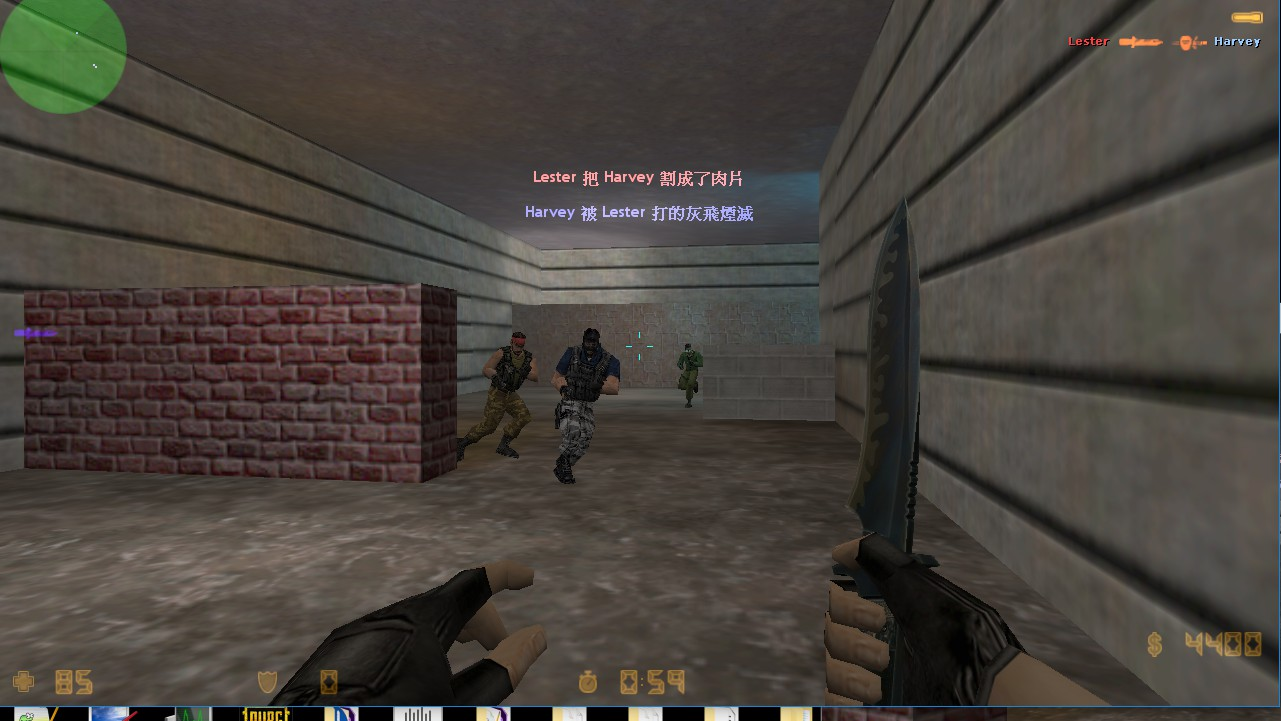person: (549, 323, 619, 491), (479, 326, 540, 460), (670, 338, 703, 410)
